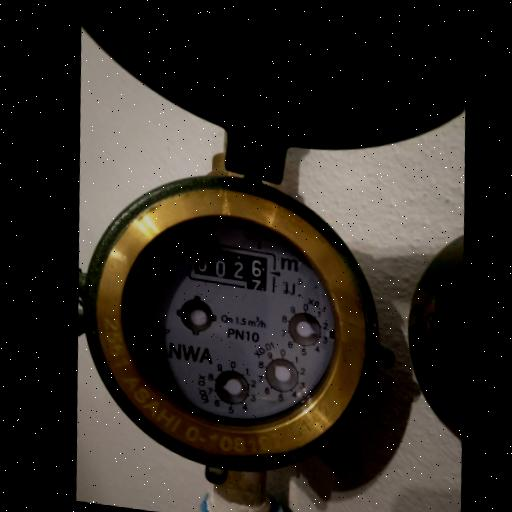0: (207, 248, 231, 280), (192, 245, 212, 278)
2: (225, 251, 249, 282)
6: (245, 254, 269, 290)
border_water_meter_number: (183, 239, 278, 294)
